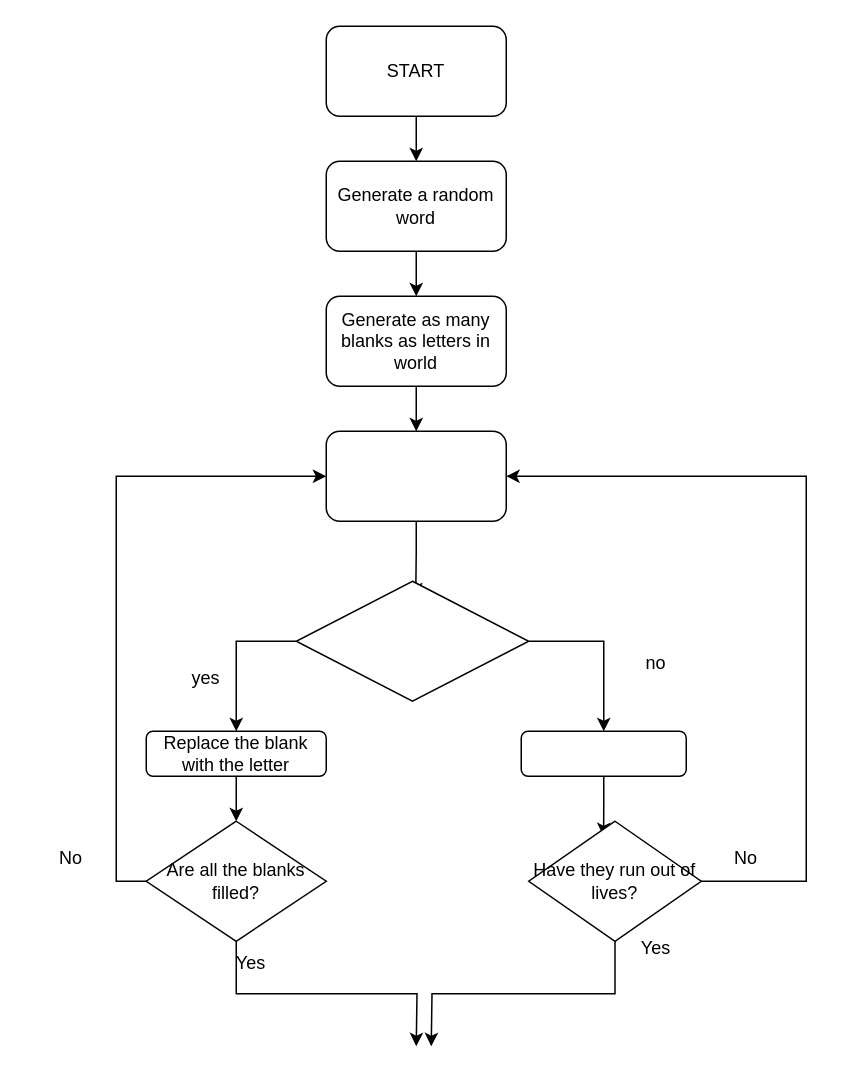
This 845x1085 diagram has some shape labels left out. The shapes that lost their labels are listed below. From the top down, each one's box as (x1, y1, x2, y2) in pixels, then its label:
(325, 430, 506, 521): Ask the user to guess a letter
(295, 580, 529, 701): Is the guessed letter in the world?
(520, 730, 686, 776): Lose a life
